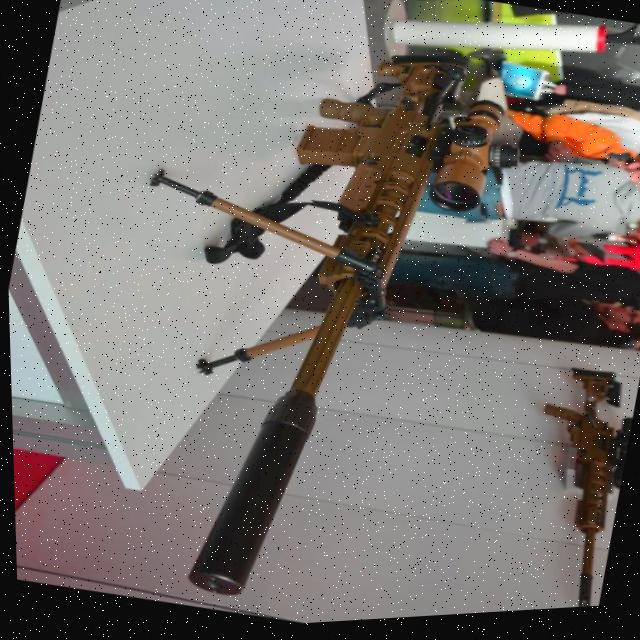firearm: (57, 0, 545, 637), (495, 360, 640, 617)
